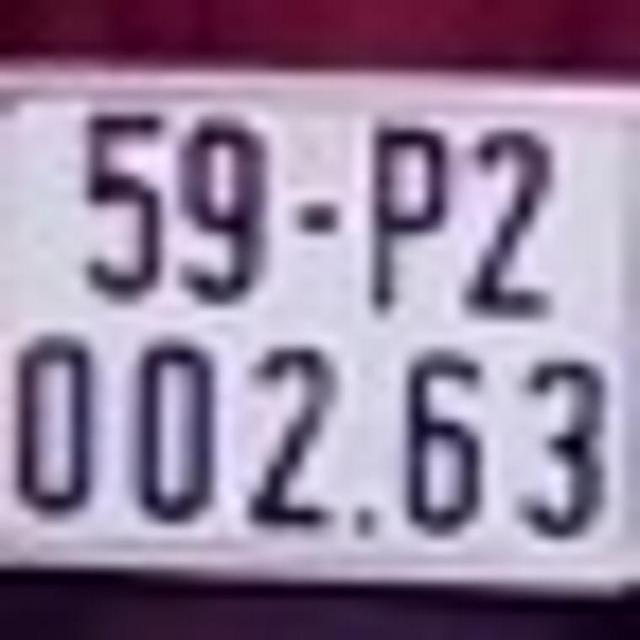0: (132, 336, 222, 532), (12, 322, 95, 512)
2: (242, 336, 338, 525), (472, 118, 560, 316)
3: (516, 346, 612, 552)
5: (78, 102, 167, 308)
6: (400, 337, 493, 554)
9: (172, 100, 272, 310)
P: (361, 113, 451, 329)
